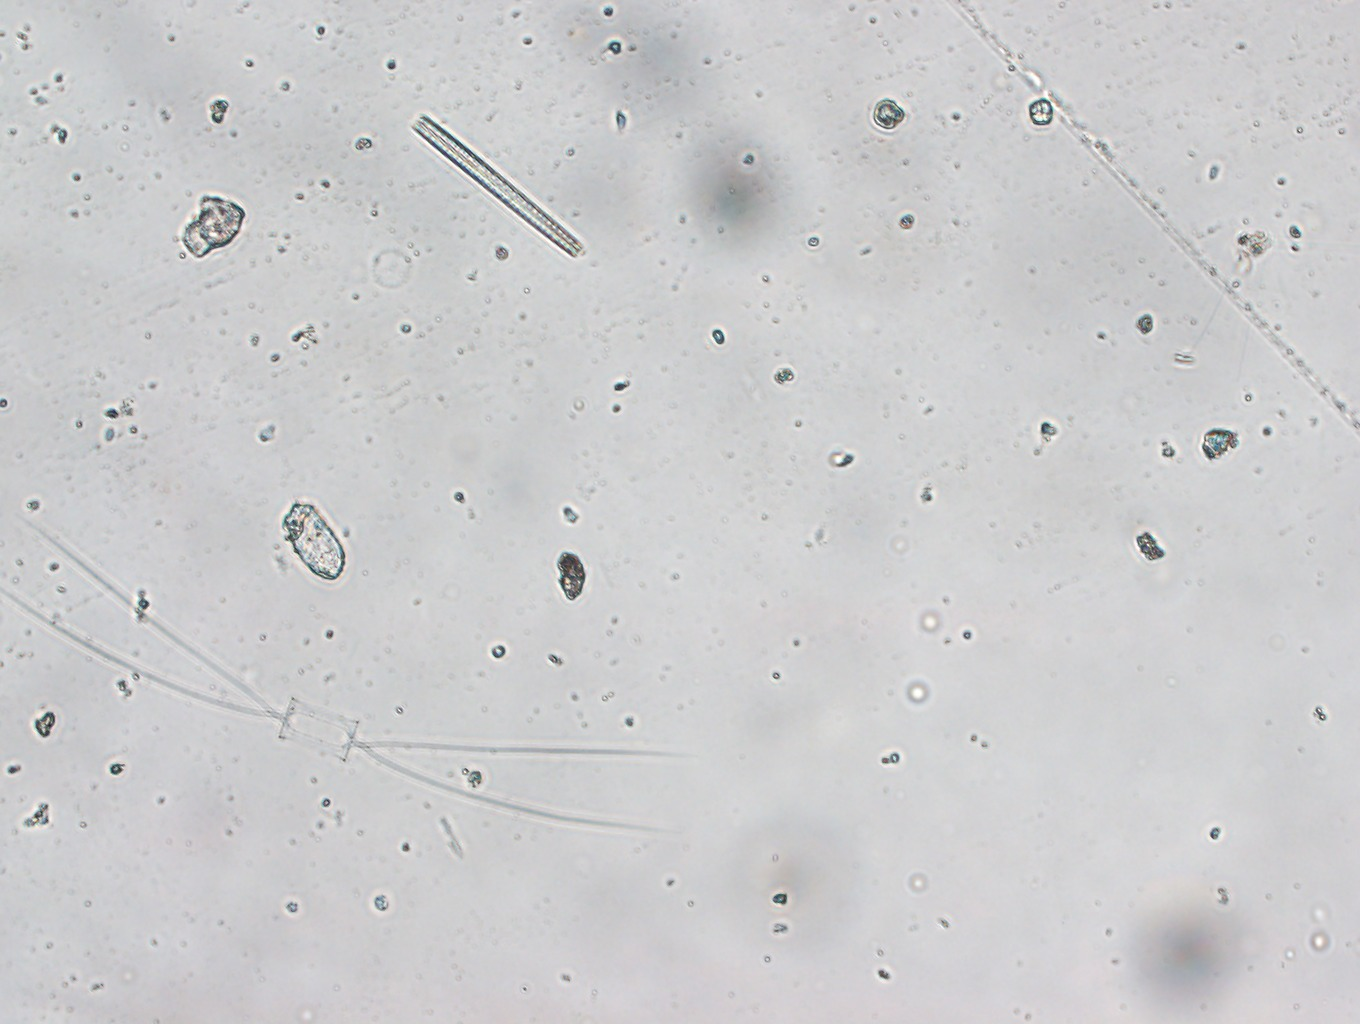chaetoceros: (11, 527, 708, 858)
